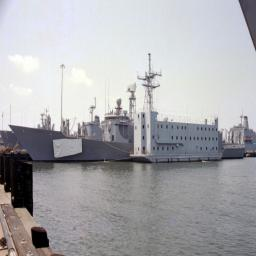Fragata: (8, 93, 129, 166)
